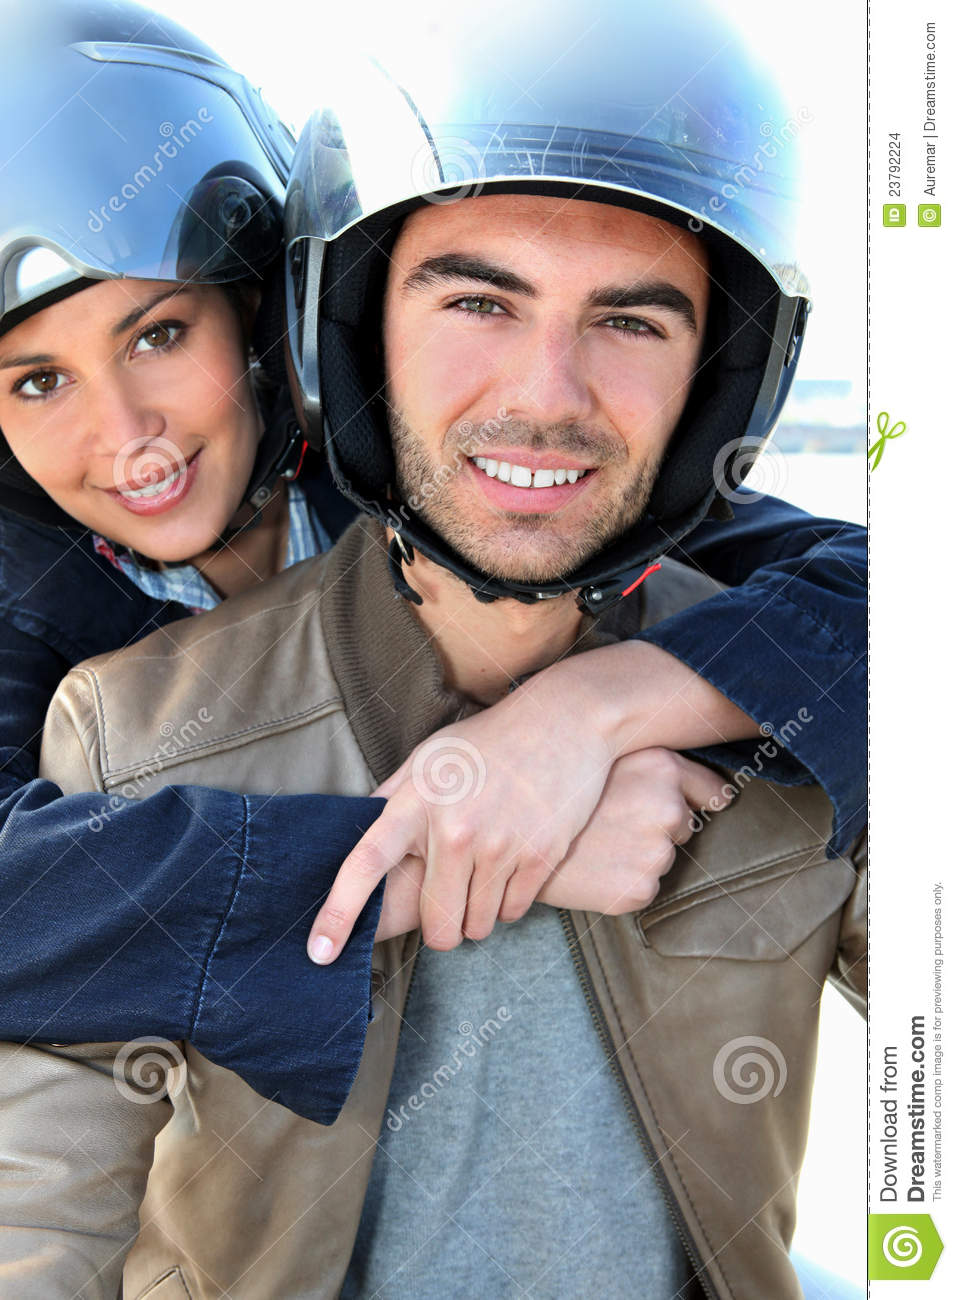helmet: (278, 33, 820, 435)
